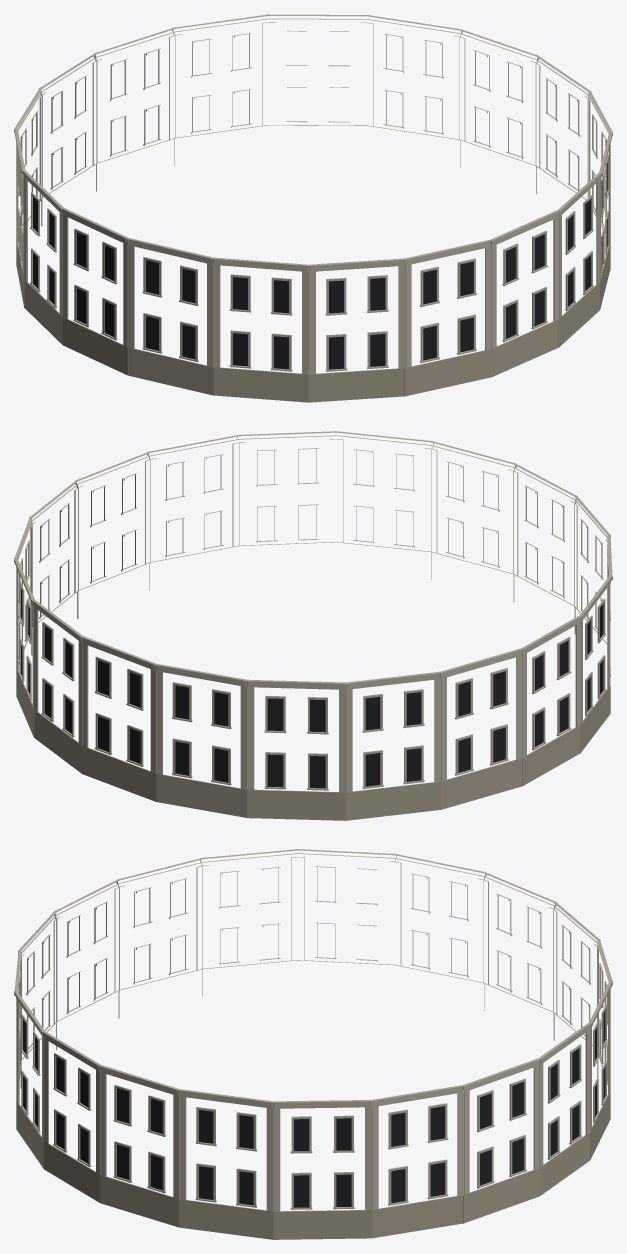
3 renders of one model, top to bottom at view 1: azimuth 30°, elevation 25°; view 2: azimuth 150°, elevation 25°; view 3: azimuth 270°, elevation 25°, orthographic.
Parts seen in each view (by area): view 1: detail; view 2: detail; view 3: detail.
Boxes of the visible parts, x1,y1,x2,y2 form: detail: (14,14,612,402); detail: (14,431,612,820); detail: (14,849,612,1239).
Bounding box in the file's own units: 48.33 × 12.25 × 48.18.
